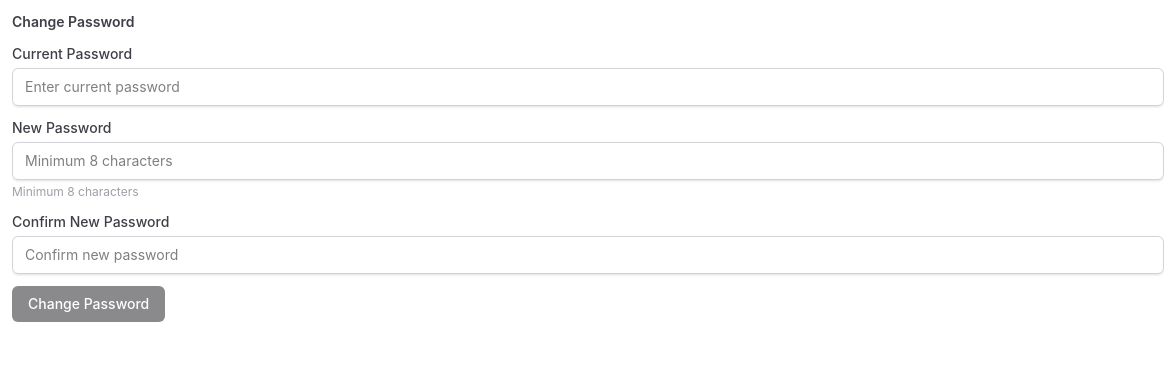
SettingsAccountTab password change submit › clears every field and shows the success status after a successful change
Type "oldpassword" into the password field with placeholder "Enter current password".
click(588, 87); type("oldpassword")  # box x1=12 y1=68 x2=1164 y2=106
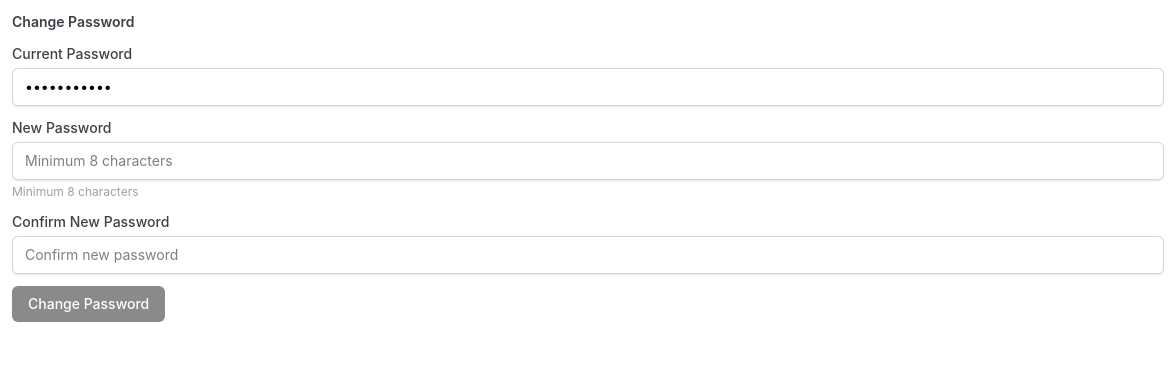
Type "newpassword1" into the password field with placeholder "Minimum 8 characters".
click(588, 161); type("newpassword1")  # box x1=12 y1=142 x2=1164 y2=180
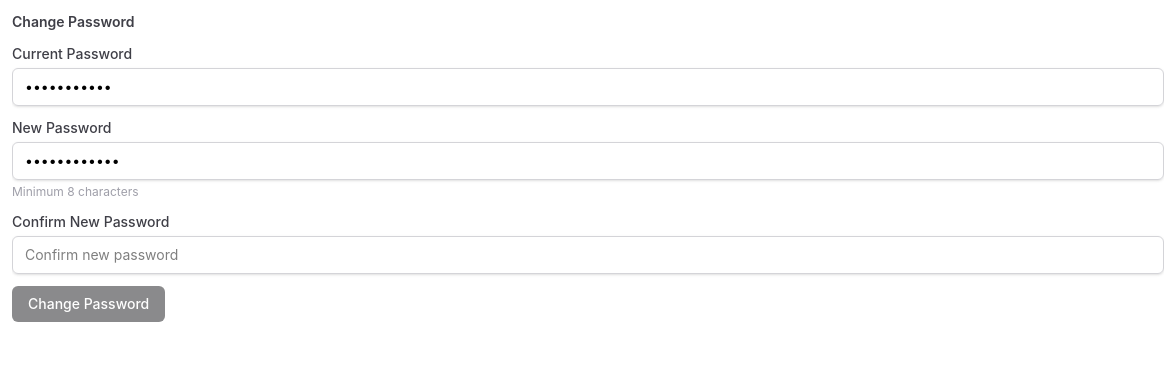
Type "newpassword1" into the password field with placeholder "Confirm New Password".
click(588, 255); type("newpassword1")  # box x1=12 y1=236 x2=1164 y2=274
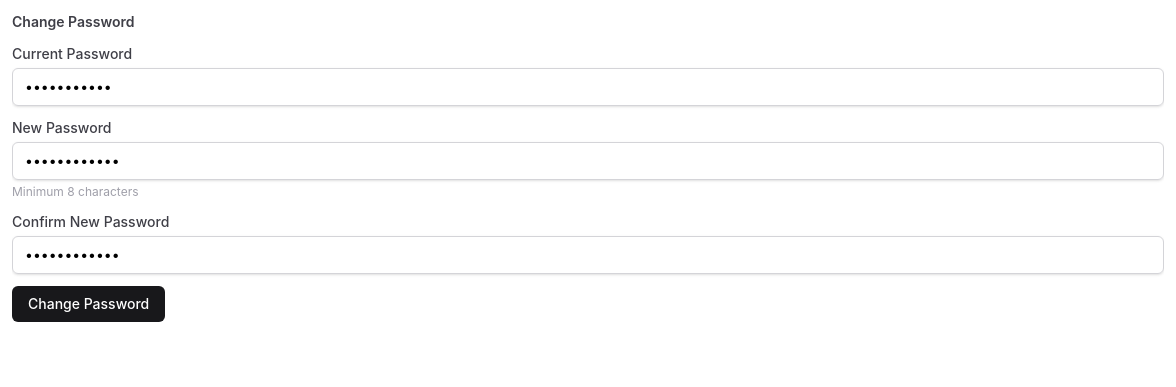
Click the button "Change Password".
click(89, 304)  # box x1=12 y1=286 x2=165 y2=322
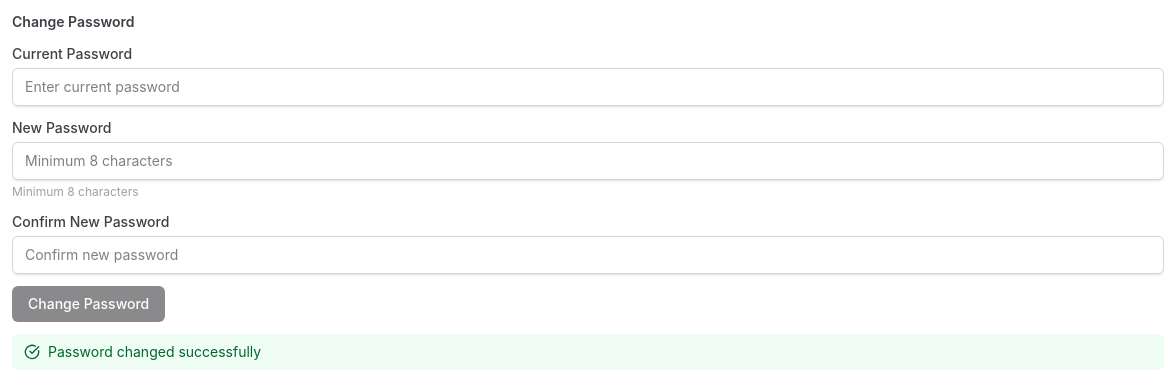
expect the text "Password changed successfully" is shown: met, box x1=12 y1=334 x2=1164 y2=370
expect the password field with placeholder "Enter current password" is empty: met, box x1=12 y1=68 x2=1164 y2=106
expect the password field with placeholder "Minimum 8 characters" is empty: met, box x1=12 y1=142 x2=1164 y2=180
